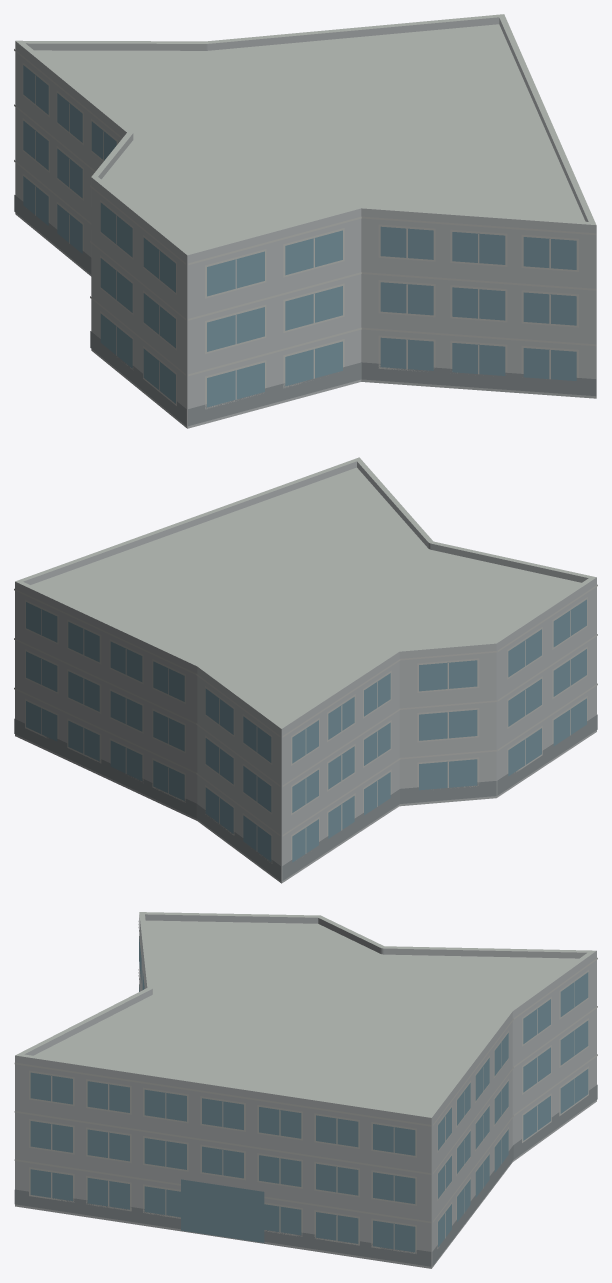
File: public-00b60d7c-ad9b-49ff-b67b-ce1dff8b824c.glb
3 renders of one model, top to bottom at view 1: azimuth 30°, elevation 25°; view 2: azimuth 150°, elevation 25°; view 3: azimuth 270°, elevation 25°, orthographic. The views are drawn at different scales.
Visible parts, largest first — view 1: public-00b60d7c-ad9b-49ff-b67b-ce1dff8b824c; view 2: public-00b60d7c-ad9b-49ff-b67b-ce1dff8b824c; view 3: public-00b60d7c-ad9b-49ff-b67b-ce1dff8b824c.
Boxes of the visible parts, bbox=[...] form: public-00b60d7c-ad9b-49ff-b67b-ce1dff8b824c: bbox=[14, 14, 596, 428]; public-00b60d7c-ad9b-49ff-b67b-ce1dff8b824c: bbox=[14, 457, 597, 883]; public-00b60d7c-ad9b-49ff-b67b-ce1dff8b824c: bbox=[14, 912, 597, 1268].
Bounding box in the file's own units: 26.9 × 9.15 × 32.07.
